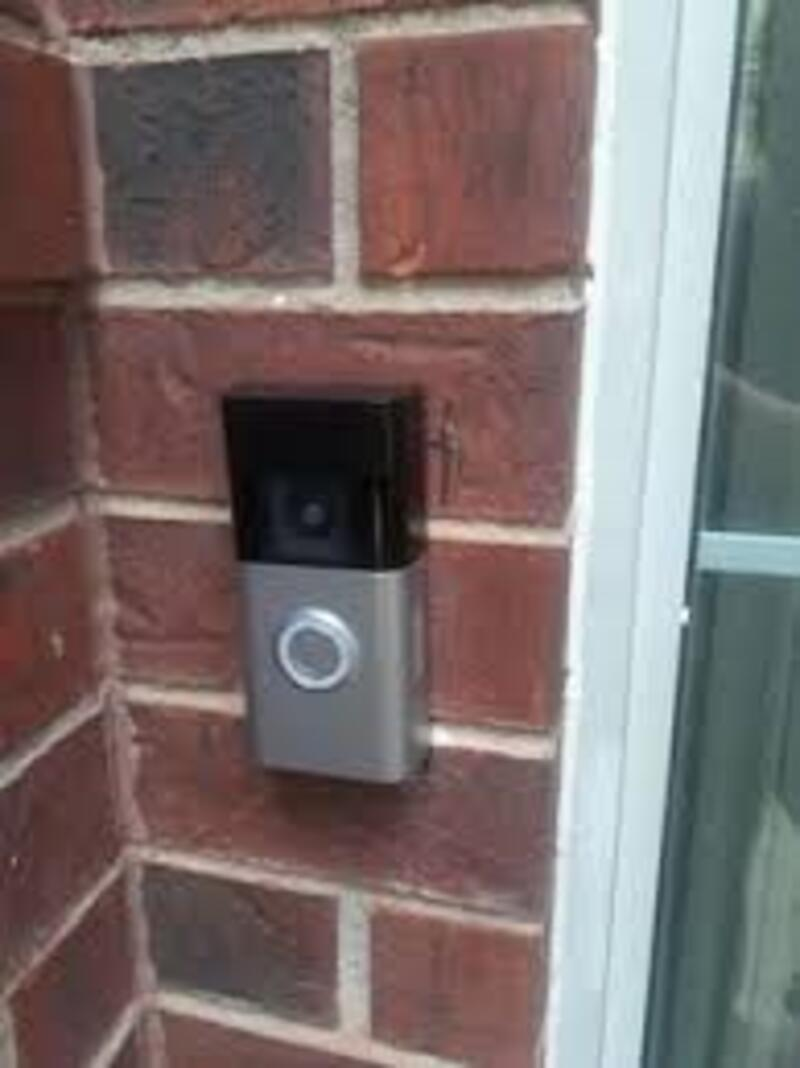doorbell: (209, 361, 437, 782)
